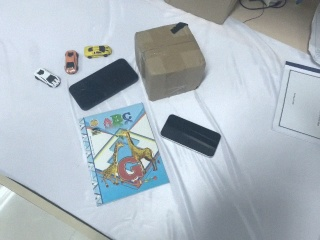book: (71, 100, 174, 208)
box: (135, 22, 207, 101), (160, 1, 243, 26)
phone: (67, 56, 140, 112), (158, 114, 222, 158)
toy_car: (34, 67, 61, 88), (84, 44, 112, 59), (64, 50, 80, 74)
